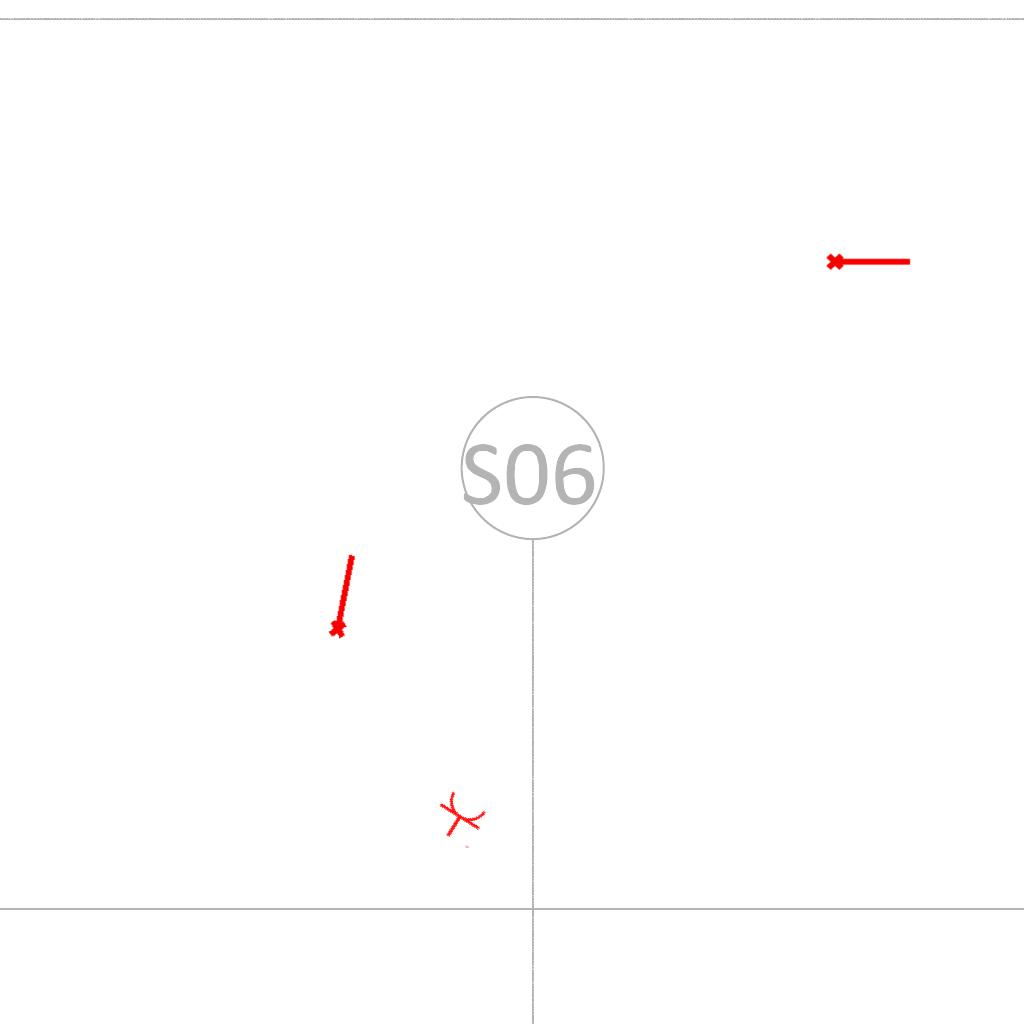ASR_Ansaugoeffnung: (323, 550, 363, 641), (825, 249, 913, 272)
Schukosteckdose_einfach: (426, 787, 493, 851)
